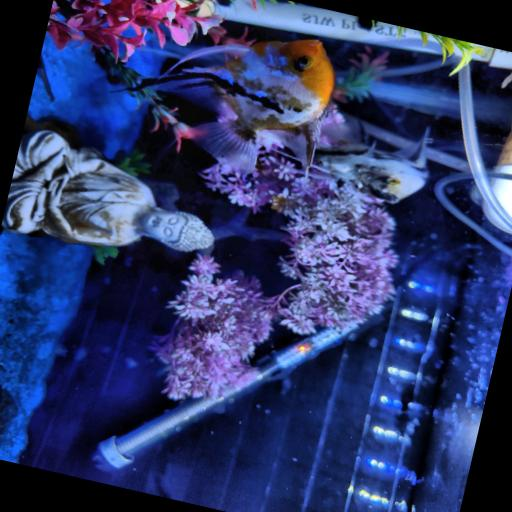Fish: (137, 39, 334, 173), (314, 119, 427, 202)
